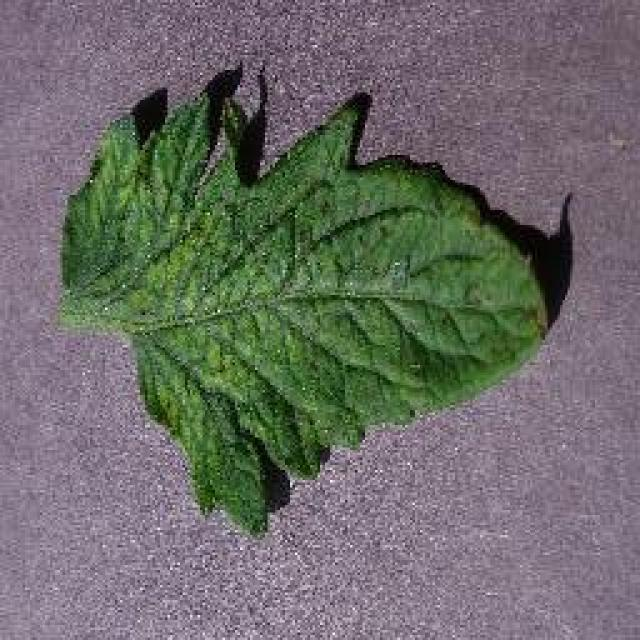Tomato spider mites leaf: (55, 106, 557, 539)
